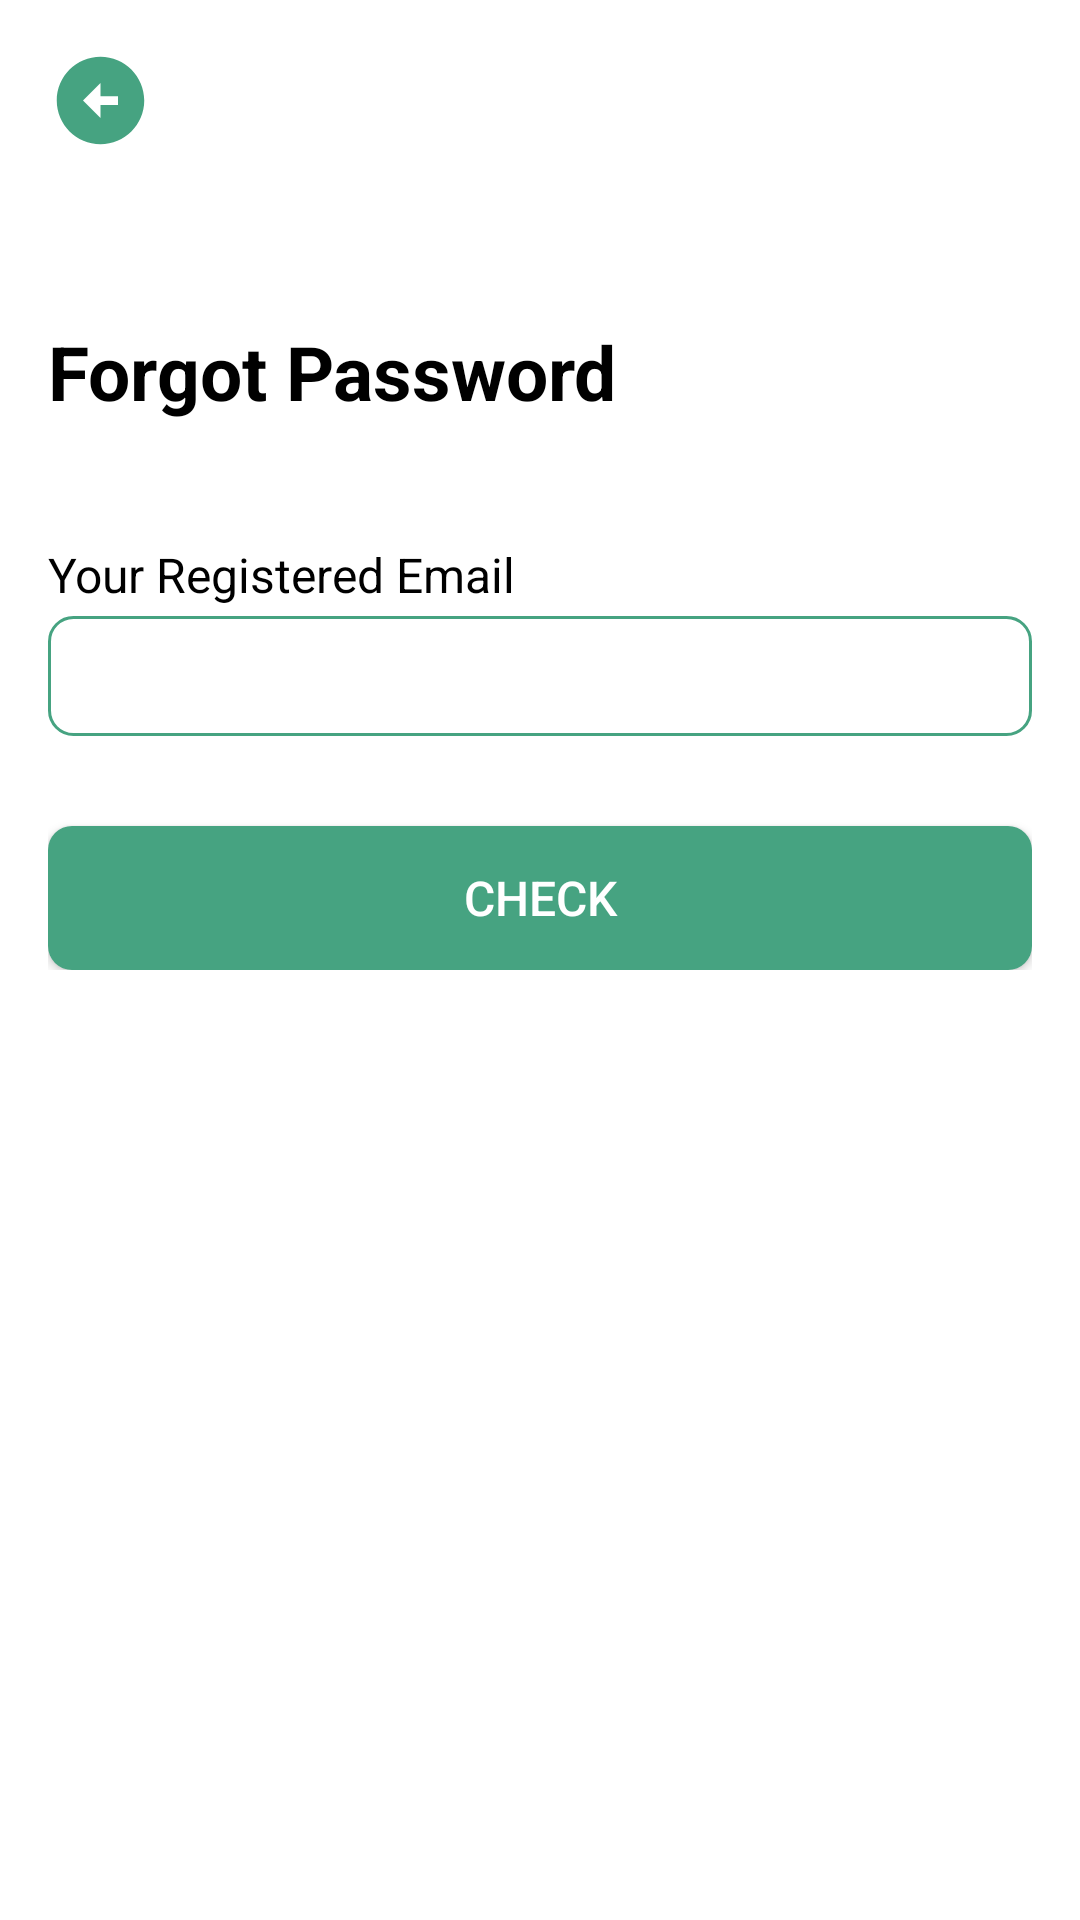

Locate icon controls on the screen. Image size 1080w x 1920h, boxes as (x1,y1,x2,y2).
back: (56,56,145,145)
